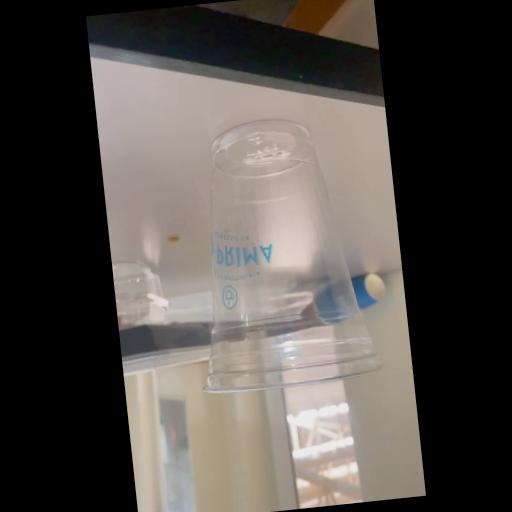lp_plastic_cup: (184, 109, 388, 399)
